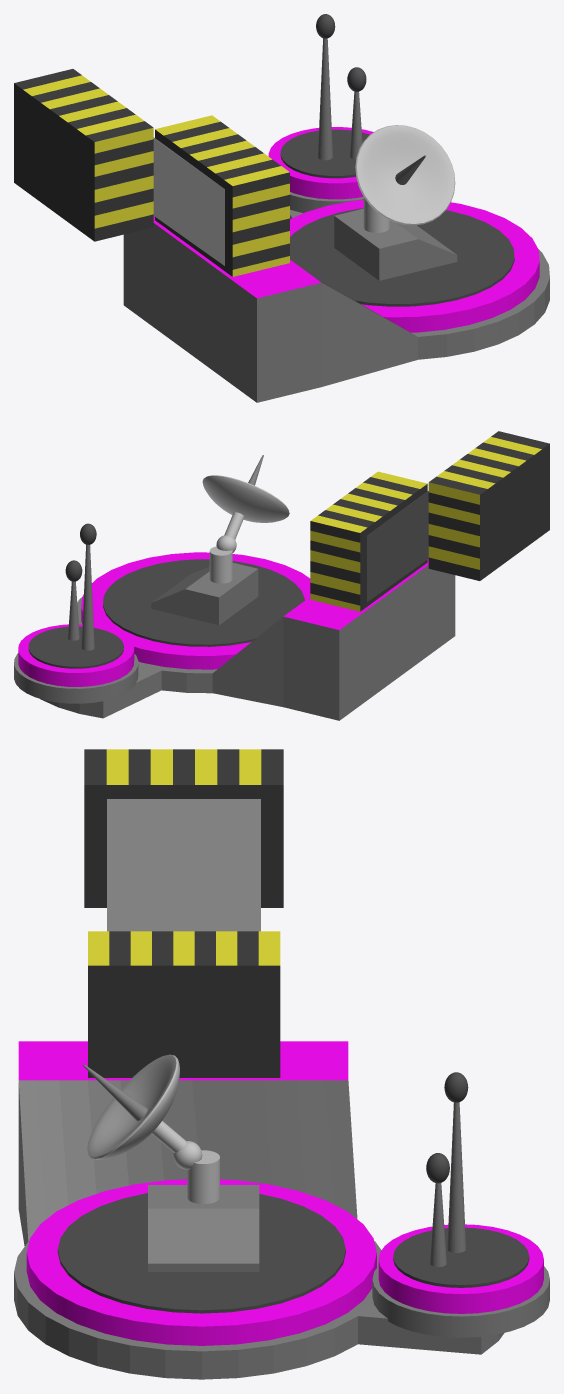
File: Scan.fbx
3 renders of one model, top to bottom at view 1: azimuth 30°, elevation 25°; view 2: azimuth 150°, elevation 25°; view 3: azimuth 270°, elevation 25°, orthographic. The views are drawn at different scales.
Visible parts, largest first — view 1: Cylinder.074; view 2: Cylinder.074; view 3: Cylinder.074.
Part boxes in pixels (x1,y1,x2,y2): Cylinder.074: [14, 14, 549, 402]; Cylinder.074: [14, 431, 549, 720]; Cylinder.074: [14, 749, 549, 1379].
Size of the model in its own units: 171 by 92.85 by 133.
